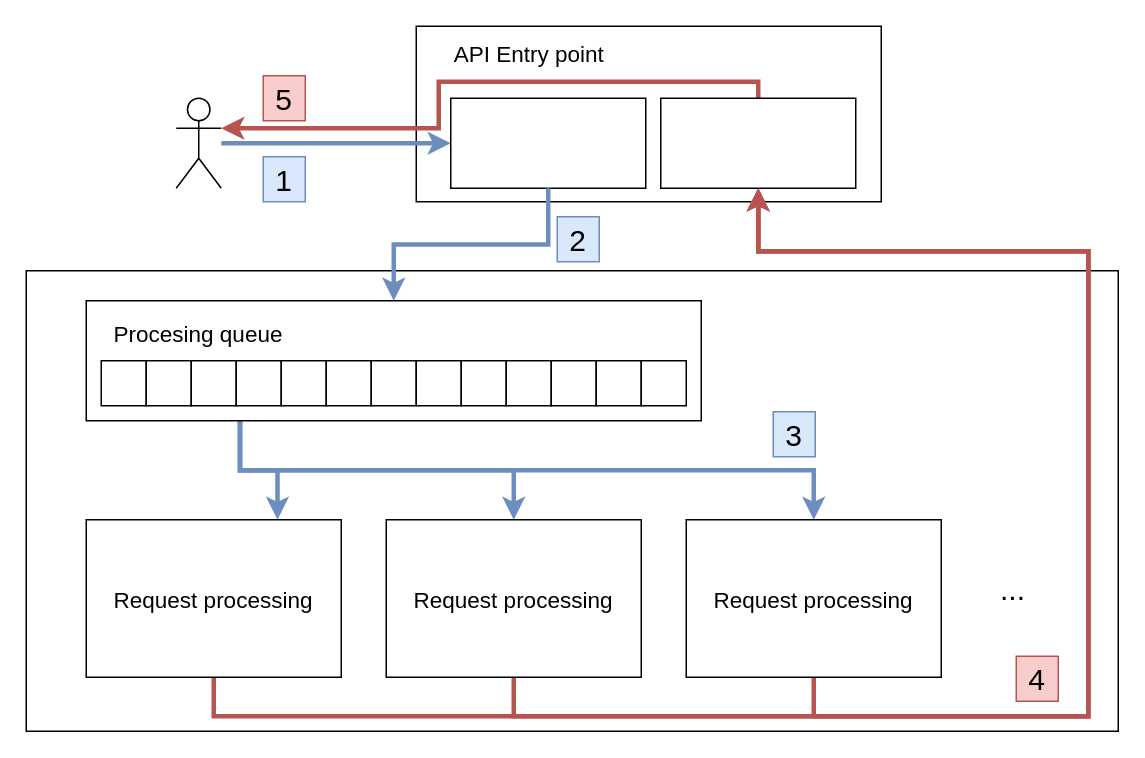
Some shapes in this 1145 by 758 pixel diagram are drawn without their labels. The centre of each missing label's shape, as x and y in pixels:
"Request receiving" goes at point (547, 142).
"Results collecting" goes at point (757, 142).
